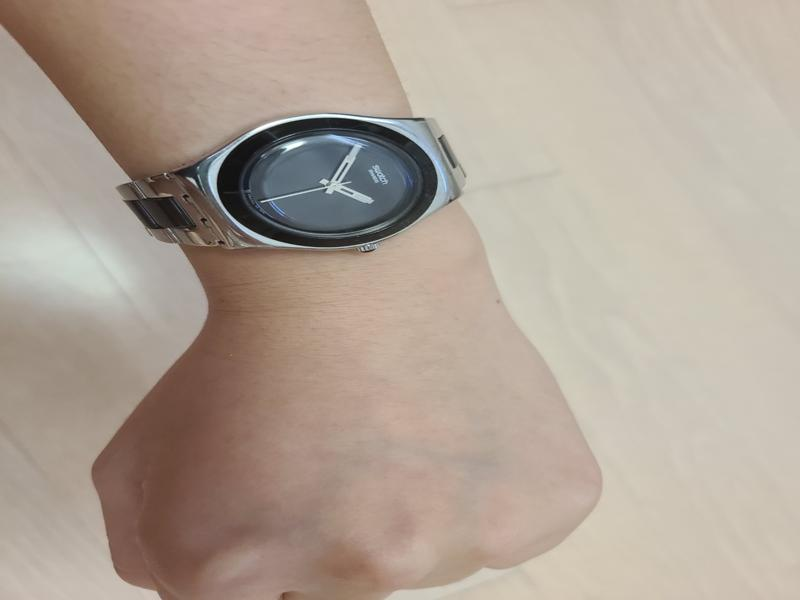watch: (119, 114, 469, 251)
